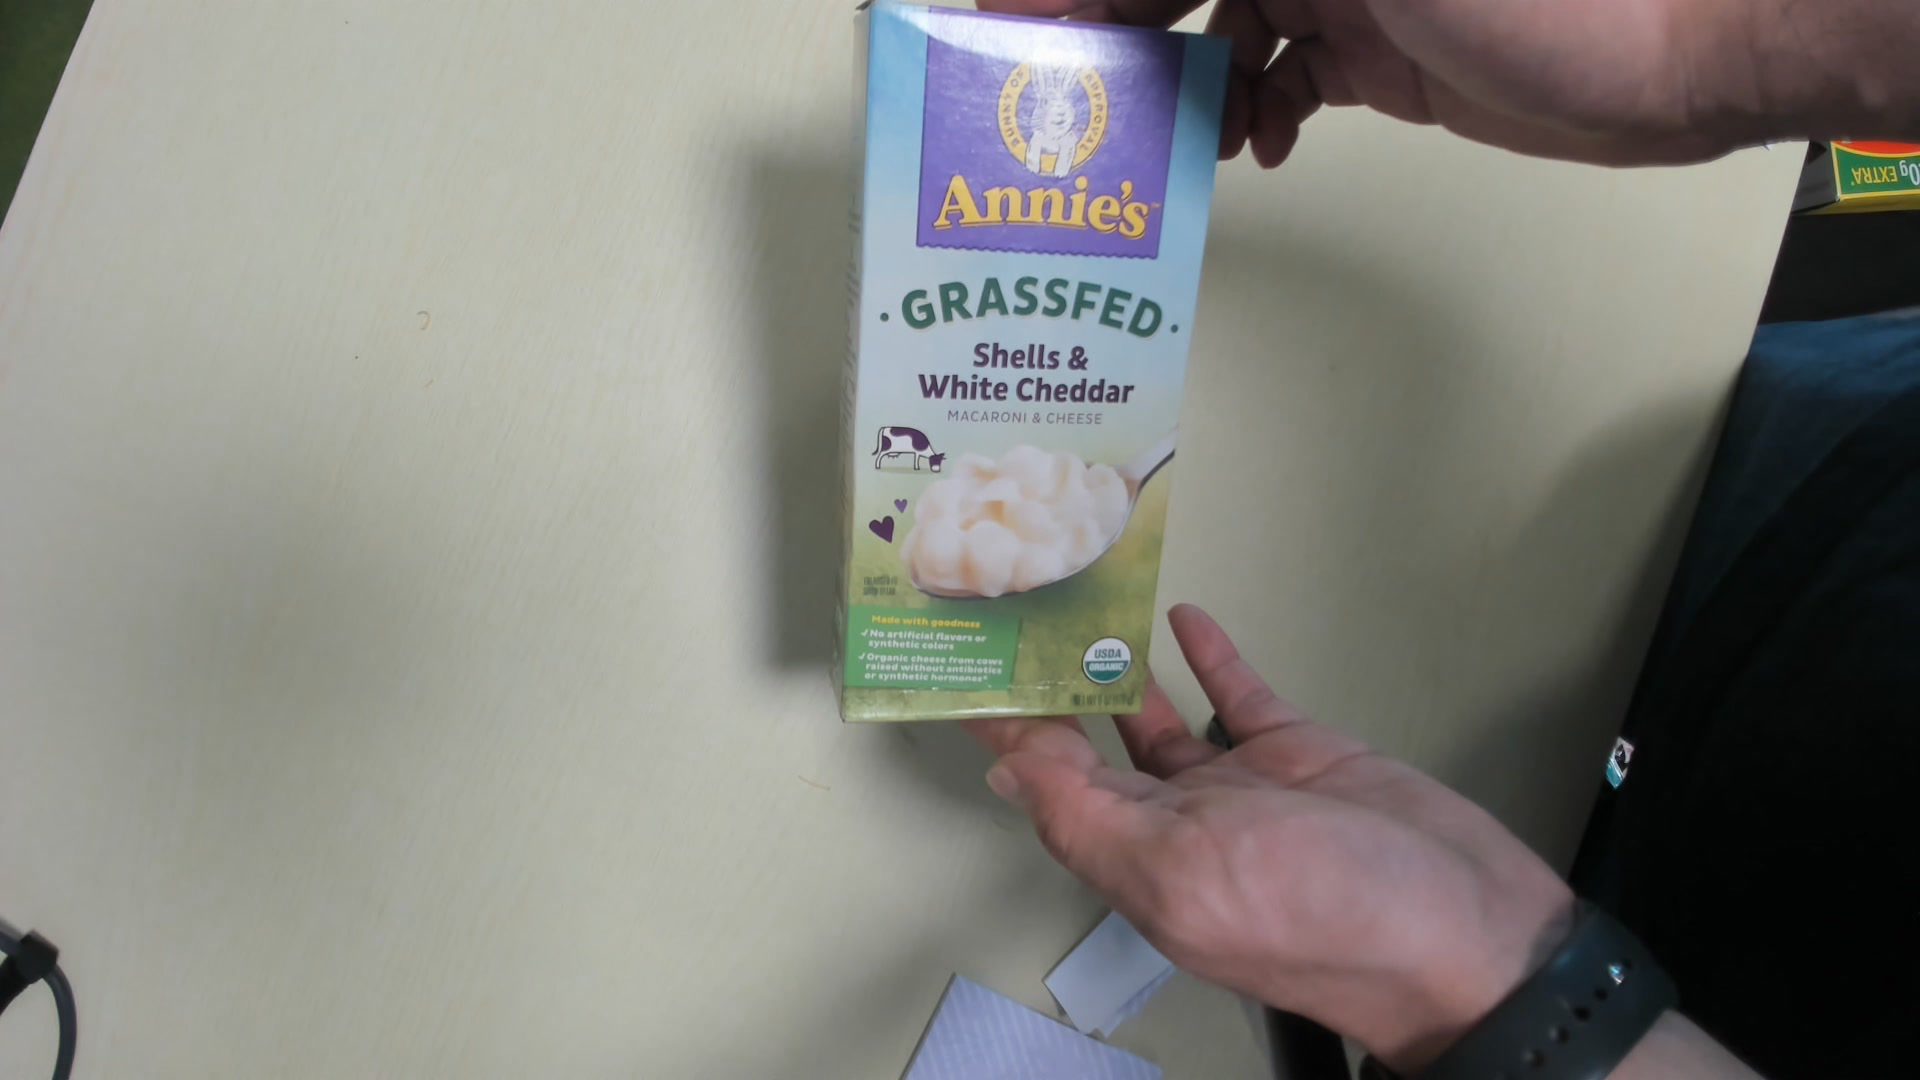InstantMeals_100_199g_NonHalal_NonHealthy: (841, 1, 1226, 741)
